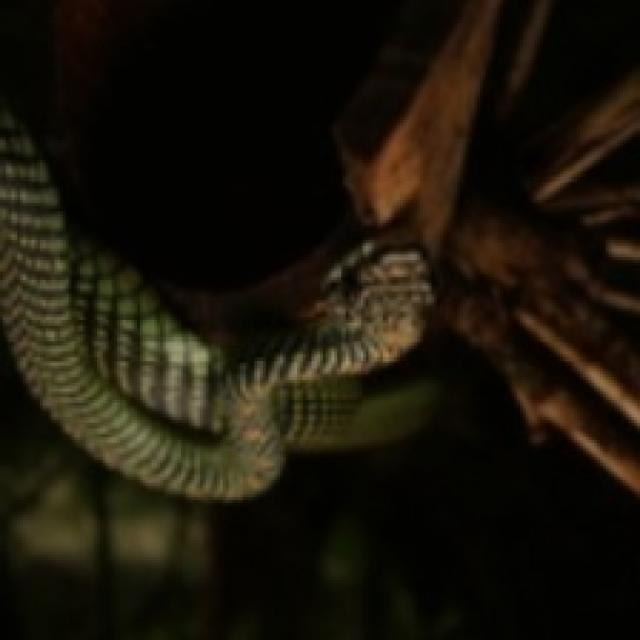paradise tree snake: (0, 108, 435, 501)
